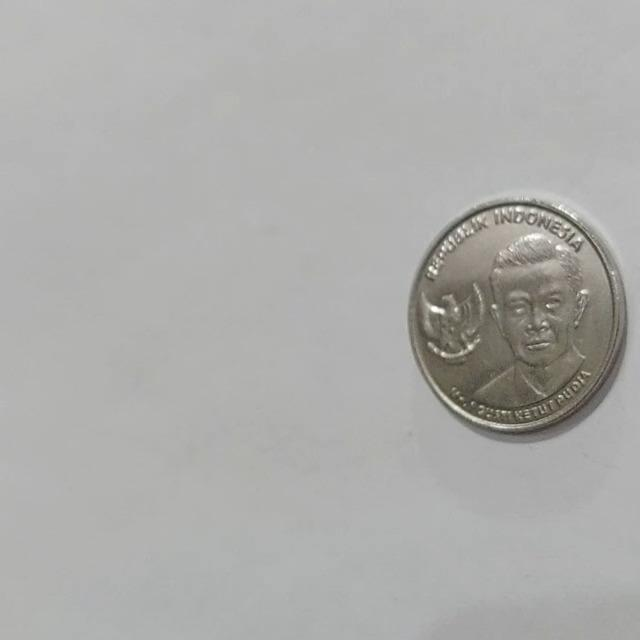Rp100: (407, 193, 628, 436)
